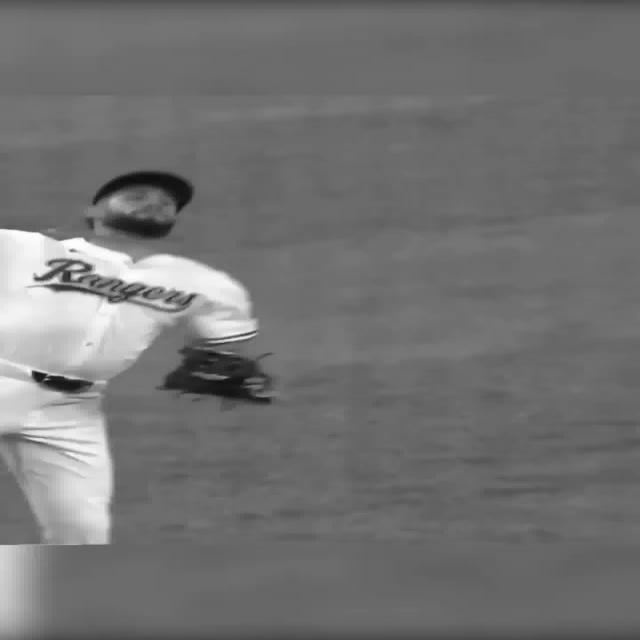baseball_glove: (162, 341, 278, 404)
